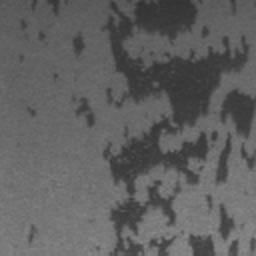Red iron sheet: (74, 0, 256, 256), (31, 0, 73, 17), (19, 18, 45, 41), (72, 31, 84, 55), (27, 223, 37, 243), (228, 0, 238, 15), (26, 105, 37, 118), (18, 52, 26, 63), (51, 72, 59, 81)
